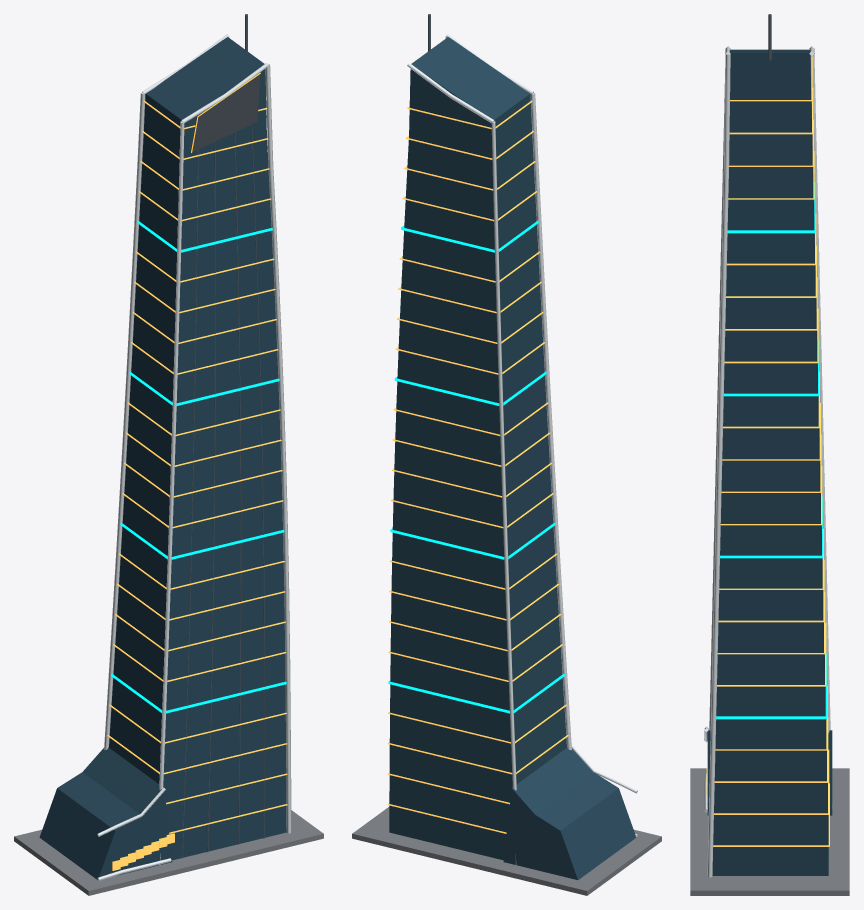
Rendered from Model_ Stage 09 .glb.
3 renders of one model, left to right at view 1: azimuth 30°, elevation 25°; view 2: azimuth 150°, elevation 25°; view 3: azimuth 270°, elevation 25°, orthographic. The views are drawn at different scales.
Visible parts, largest first — view 1: SailTowerGlassShell.005, SignatureWhiteTowerRibbon.005, SweepingPodiumGlass.006, SailWarmFloorBands.005, SailFoundation.008, FacadeMullions.005, CrownAperture.001, SailSkyLobbyBands.005, PodiumWhiteRibbon.006, PodiumWindows.006; view 2: SailTowerGlassShell.005, SweepingPodiumGlass.006, SignatureWhiteTowerRibbon.005, SailWarmFloorBands.005, SailFoundation.008, SailSkyLobbyBands.005; view 3: SailTowerGlassShell.005, SignatureWhiteTowerRibbon.005, SailFoundation.008, SailWarmFloorBands.005, SailSkyLobbyBands.005, SweepingPodiumGlass.006.
Boxes of the visible parts, <box> form: SailTowerGlassShell.005: <box>109,37,286,860</box>; SignatureWhiteTowerRibbon.005: <box>104,34,291,865</box>; SweepingPodiumGlass.006: <box>39,747,172,879</box>; SailWarmFloorBands.005: <box>107,100,287,833</box>; SailFoundation.008: <box>14,810,323,895</box>; FacadeMullions.005: <box>182,124,264,858</box>; CrownAperture.001: <box>190,74,260,152</box>; SailSkyLobbyBands.005: <box>111,220,286,713</box>; PodiumWhiteRibbon.006: <box>97,787,171,880</box>; PodiumWindows.006: <box>112,833,174,870</box>; SailTowerGlassShell.005: <box>389,37,566,860</box>; SweepingPodiumGlass.006: <box>503,747,636,879</box>; SignatureWhiteTowerRibbon.005: <box>407,34,571,865</box>; SailWarmFloorBands.005: <box>387,100,568,833</box>; SailFoundation.008: <box>352,807,661,895</box>; SailSkyLobbyBands.005: <box>388,220,564,713</box>; SailTowerGlassShell.005: <box>712,49,828,875</box>; SignatureWhiteTowerRibbon.005: <box>707,46,832,877</box>; SailFoundation.008: <box>690,768,849,895</box>; SailWarmFloorBands.005: <box>713,56,829,846</box>; SailSkyLobbyBands.005: <box>716,182,826,719</box>; SweepingPodiumGlass.006: <box>707,730,832,815</box>.
Size of the model in its own units: 20 by 65.57 by 11.
